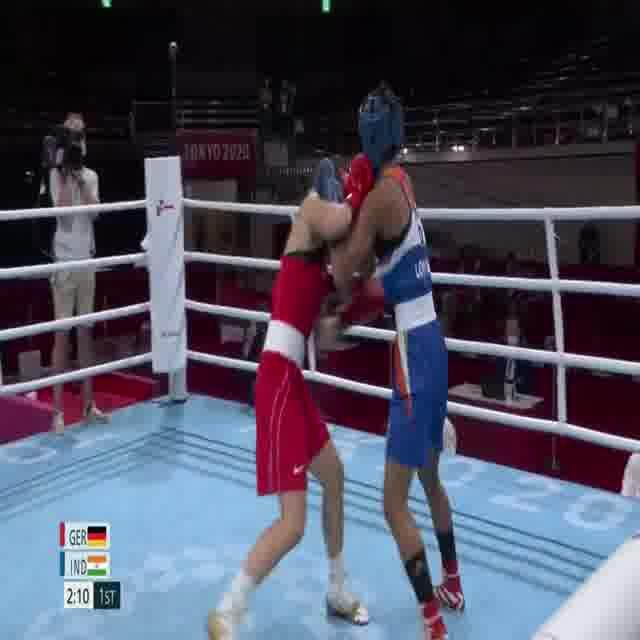blue-player: (313, 71, 464, 640)
red-player: (204, 151, 386, 640)
